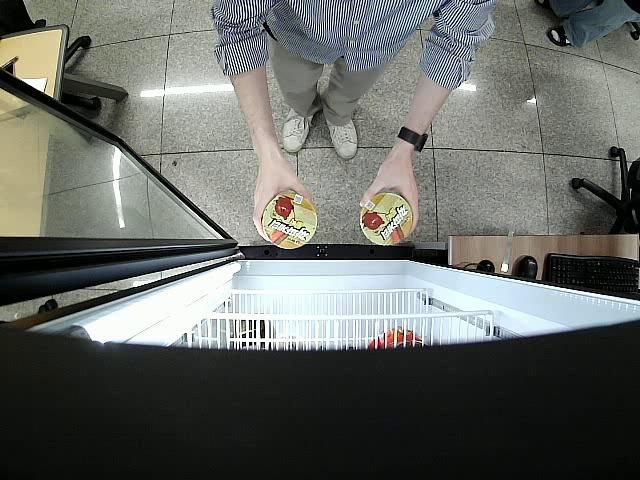00_hand: (359, 149, 420, 236), (252, 158, 310, 242)
04_chapagetti_S: (260, 193, 318, 251), (360, 193, 414, 246)
